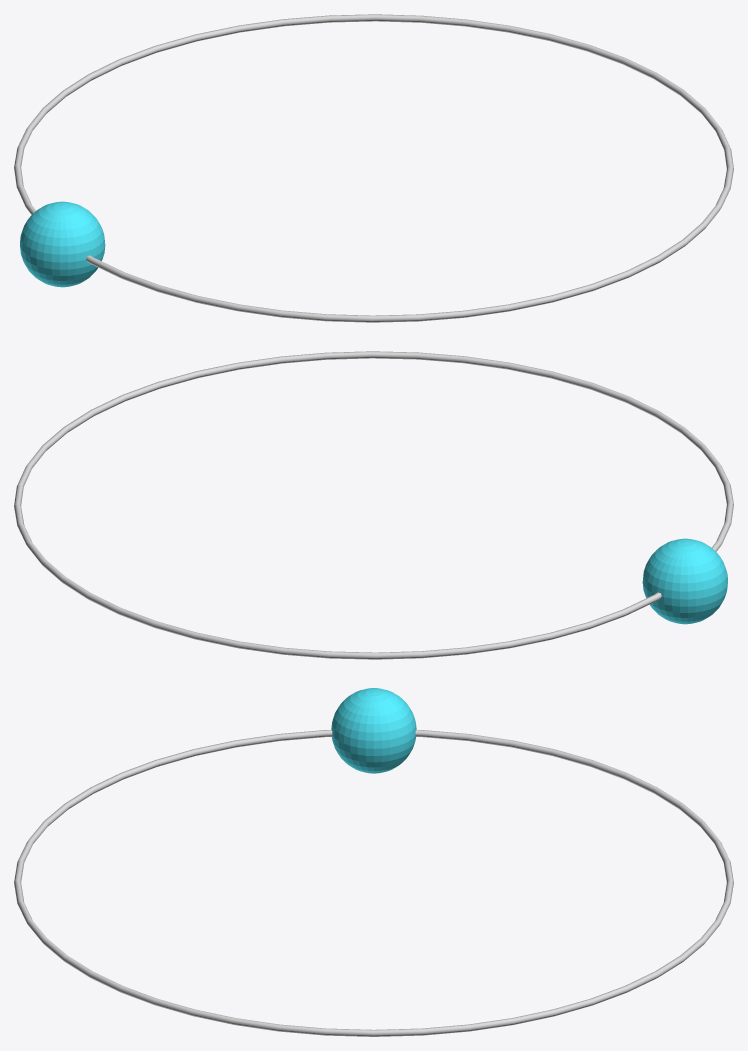
Rendered from planet1test.glb.
3 renders of one model, top to bottom at view 1: azimuth 30°, elevation 25°; view 2: azimuth 150°, elevation 25°; view 3: azimuth 270°, elevation 25°, orthographic.
Parts seen in each view (by area): view 1: orbet, Sphere.003; view 2: orbet, Sphere.003; view 3: orbet, Sphere.003.
Part boxes in pixels (x1=…): orbet: x1=14, y1=14, x2=733, y2=322; Sphere.003: x1=20, y1=201, x2=105, y2=287; orbet: x1=14, y1=351, x2=733, y2=659; Sphere.003: x1=642, y1=538, x2=727, y2=624; orbet: x1=14, y1=729, x2=733, y2=1036; Sphere.003: x1=331, y1=688, x2=416, y2=773.
Size of the model in its own units: 1.91 by 0.2144 by 1.8.
